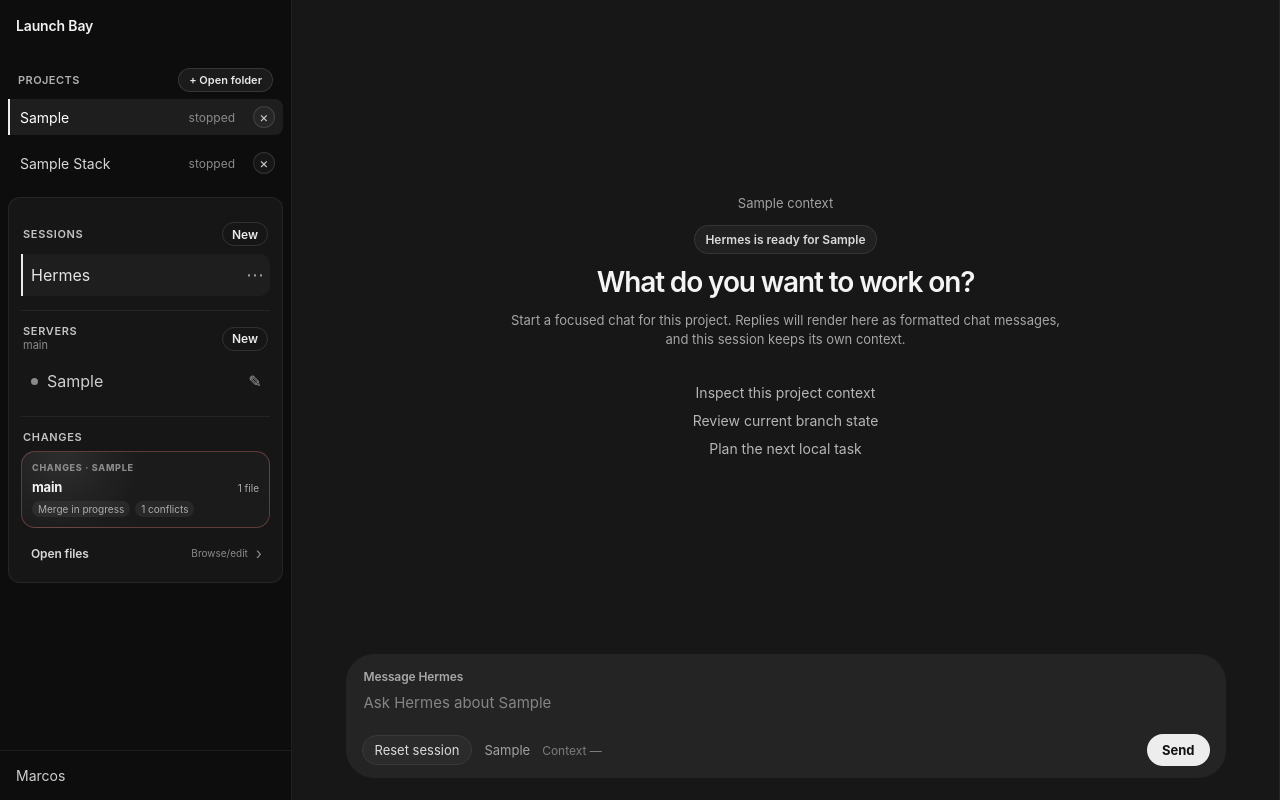
Test: Launch Bay shell › surfaces merge conflicts in the changes workbench instead of hiding them as generic errors
Click the button with aria-label "Expand changes workbench". click: (146, 490)
box: [21,451,270,528]
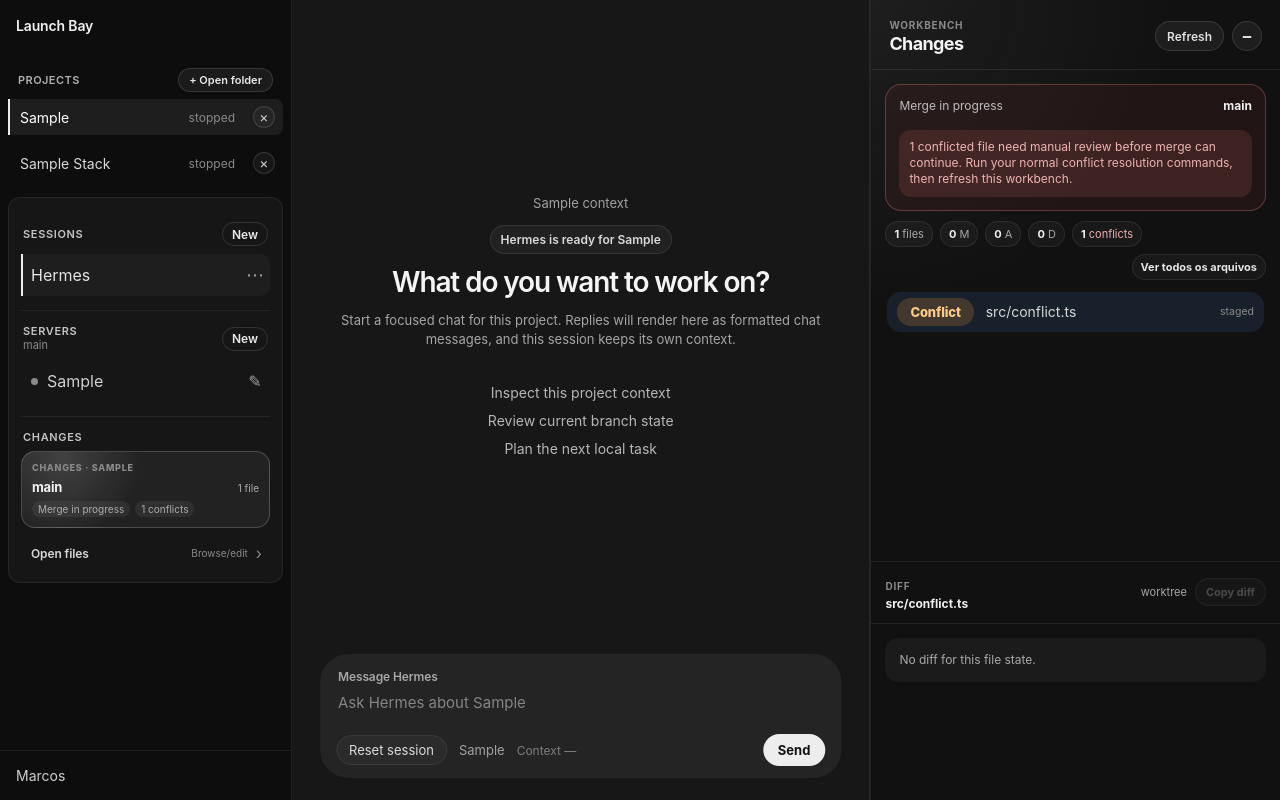
Now the 1st text "Merge in progress" is shown, box [899,98,1003,113]
Now the message shows "1 conflicted file", box [899,130,1252,197]
Now the 1st text "src/conflict.ts" is shown, box [986,303,1076,320]
